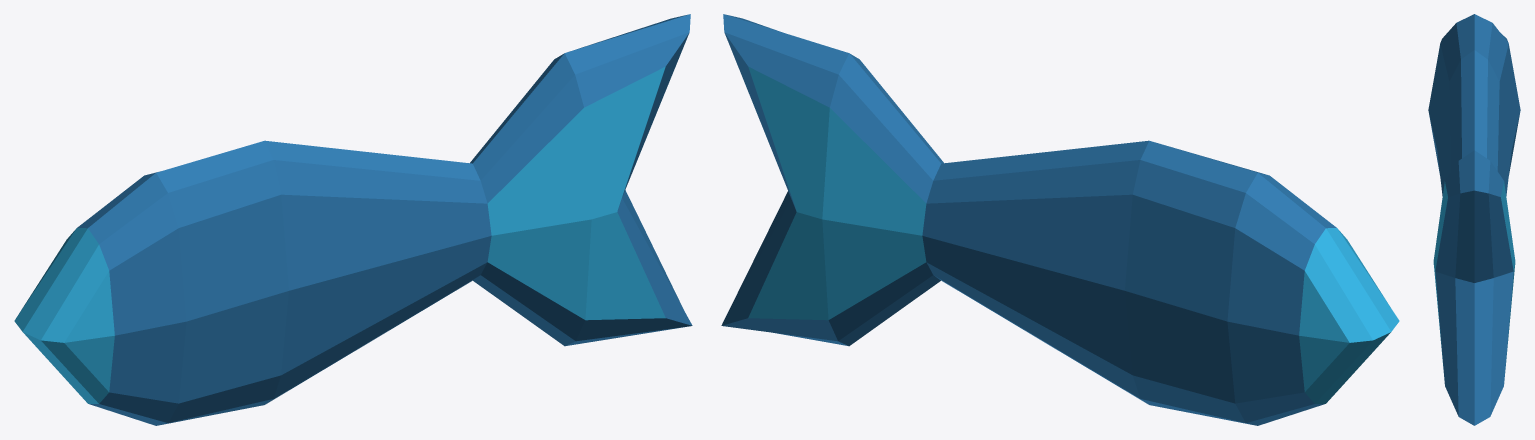
The model's file is Peixe.fbx.
3 views of the same model, side by side, from view 1: azimuth 30°, elevation 25°; view 2: azimuth 150°, elevation 25°; view 3: azimuth 270°, elevation 25° (orthographic). The views are drawn at different scales.
Parts seen in each view (by area): view 1: Peixe; view 2: Peixe; view 3: Peixe.
Boxes of the visible parts, bbox=[...] form: Peixe: bbox=[14, 14, 692, 425]; Peixe: bbox=[721, 14, 1399, 425]; Peixe: bbox=[1428, 14, 1520, 425].
Size of the model in its own units: 32.43 by 14.38 by 5.11.
